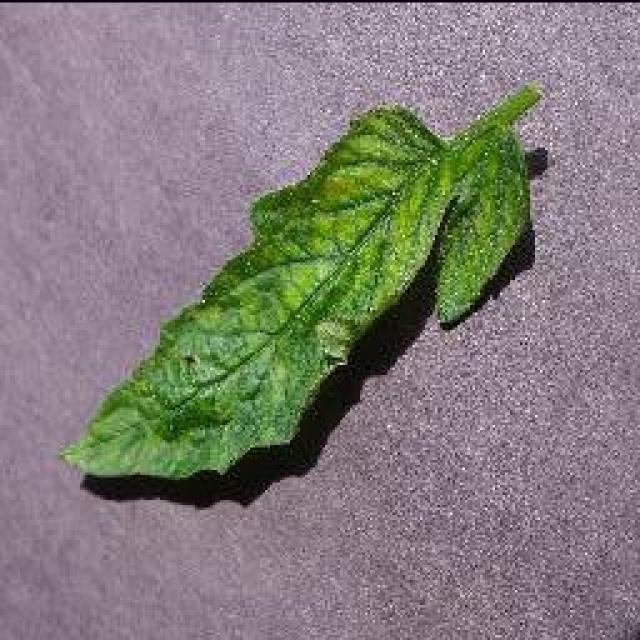Tomato___Tomato_mosaic_virus: (62, 85, 538, 480)
